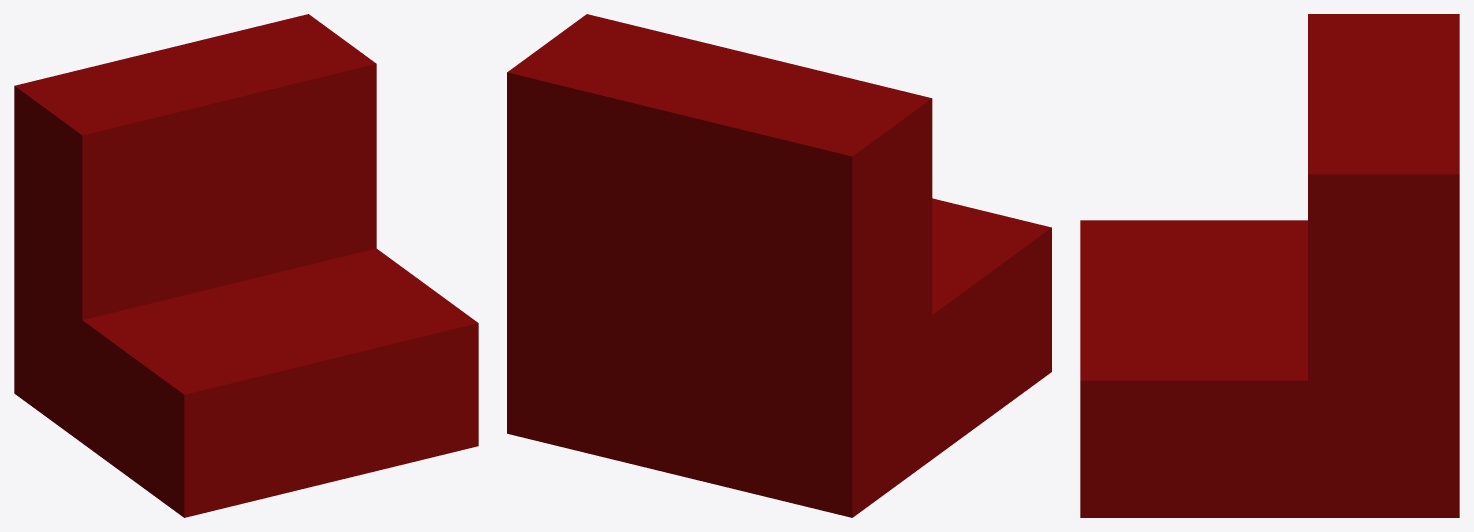
File: set.obj
3 renders of one model, left to right at view 1: azimuth 30°, elevation 25°; view 2: azimuth 150°, elevation 25°; view 3: azimuth 270°, elevation 25°, orthographic. The views are drawn at different scales.
Parts seen in each view (by area): view 1: set; view 2: set; view 3: set.
Boxes of the visible parts, x1=… form: set: x1=14, y1=14, x2=478, y2=517; set: x1=507, y1=14, x2=1051, y2=517; set: x1=1080, y1=14, x2=1459, y2=517.
Bounding box in the file's own units: 5 × 5 × 5.
1 material, 1 textured.
